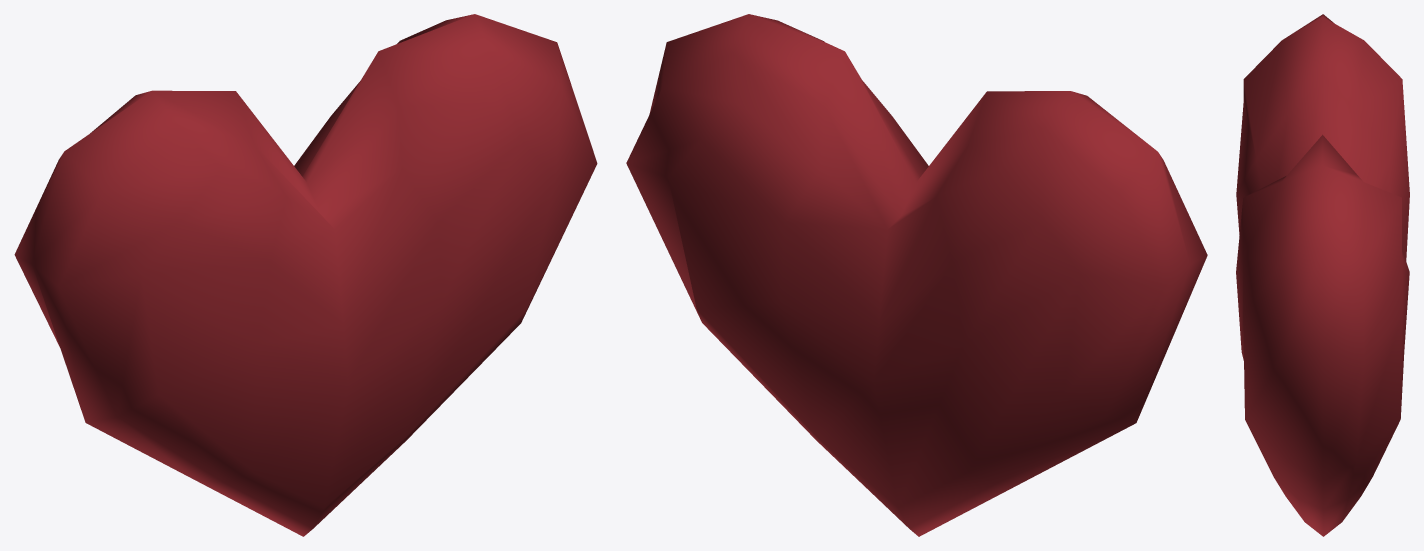
The model's file is Heart.fbx.
The picture shows the model from 3 angles, left to right: view 1: azimuth 30°, elevation 25°; view 2: azimuth 150°, elevation 25°; view 3: azimuth 270°, elevation 25°; orthographic projection. The views are drawn at different scales.
Parts seen in each view (by area): view 1: Cube_018; view 2: Cube_018; view 3: Cube_018.
Part boxes in pixels (box(x1,y1,x2,y2)): Cube_018: box(14, 14, 597, 536); Cube_018: box(626, 14, 1207, 536); Cube_018: box(1236, 14, 1409, 536).
Size of the model in its own units: 4.54 by 3.83 by 1.34.
